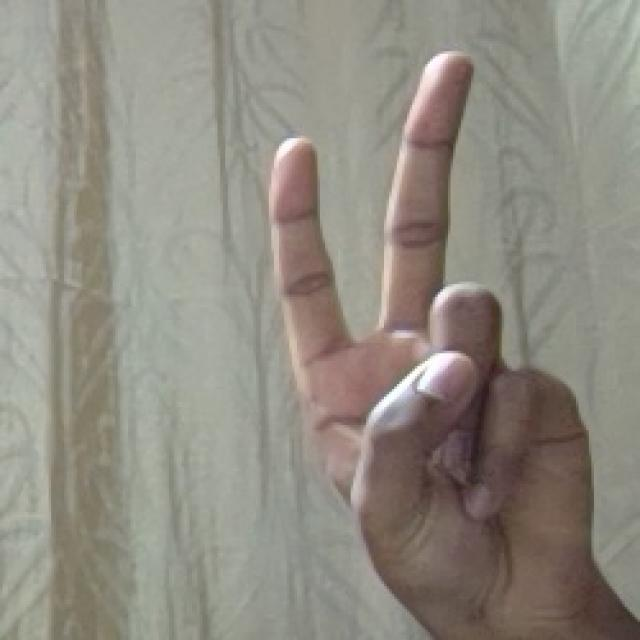Numeric-2: (273, 44, 598, 586)
